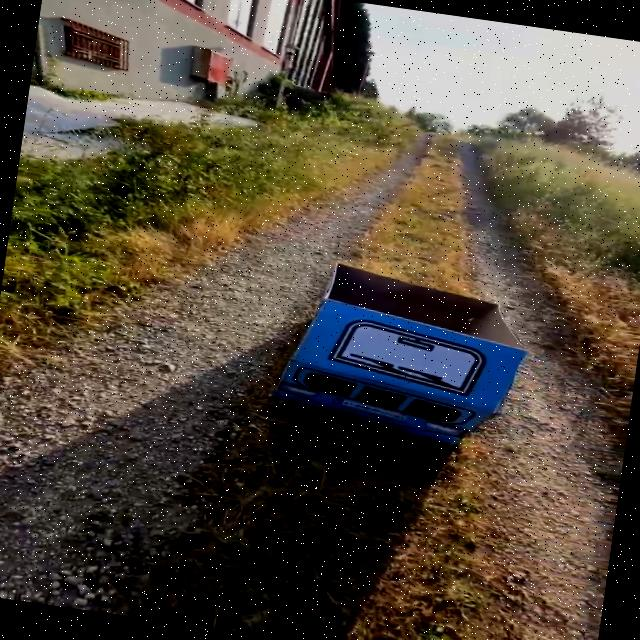blue_car: (216, 247, 561, 488)
